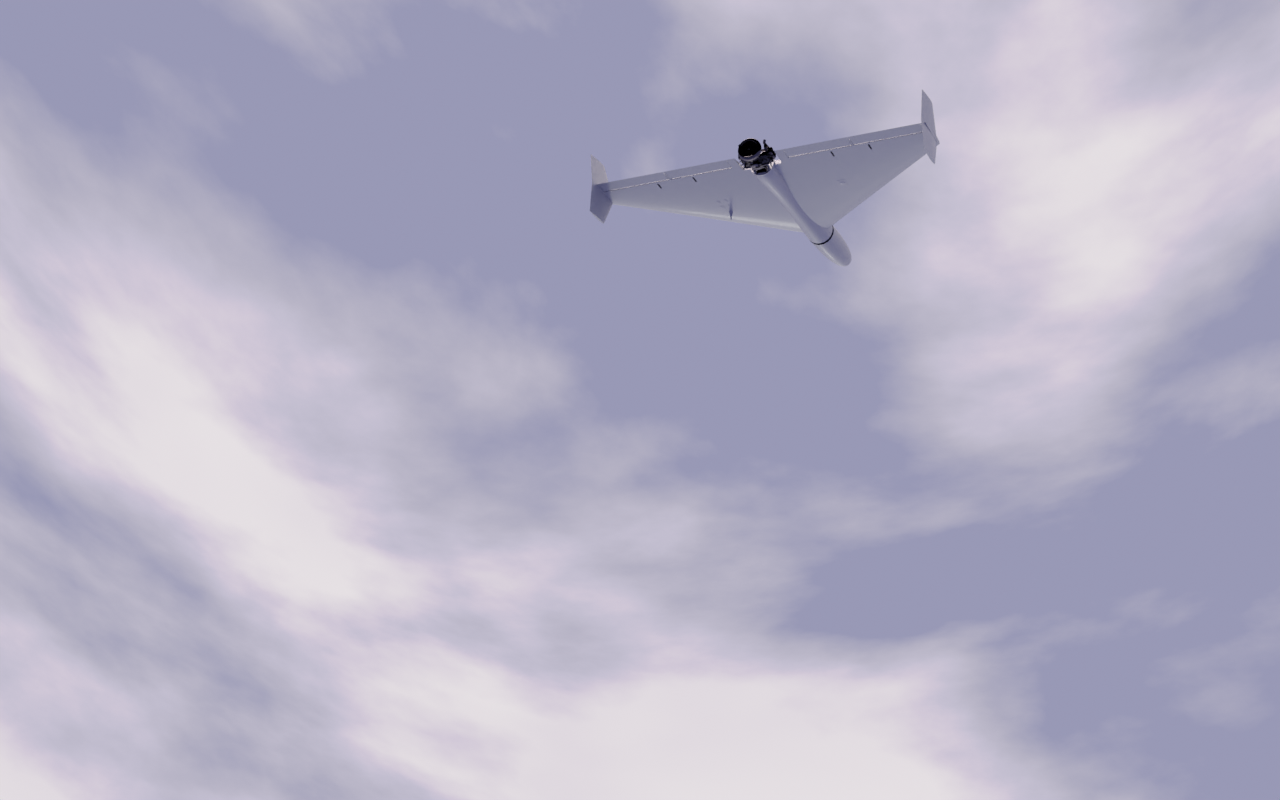shahed: (589, 90, 942, 268)
